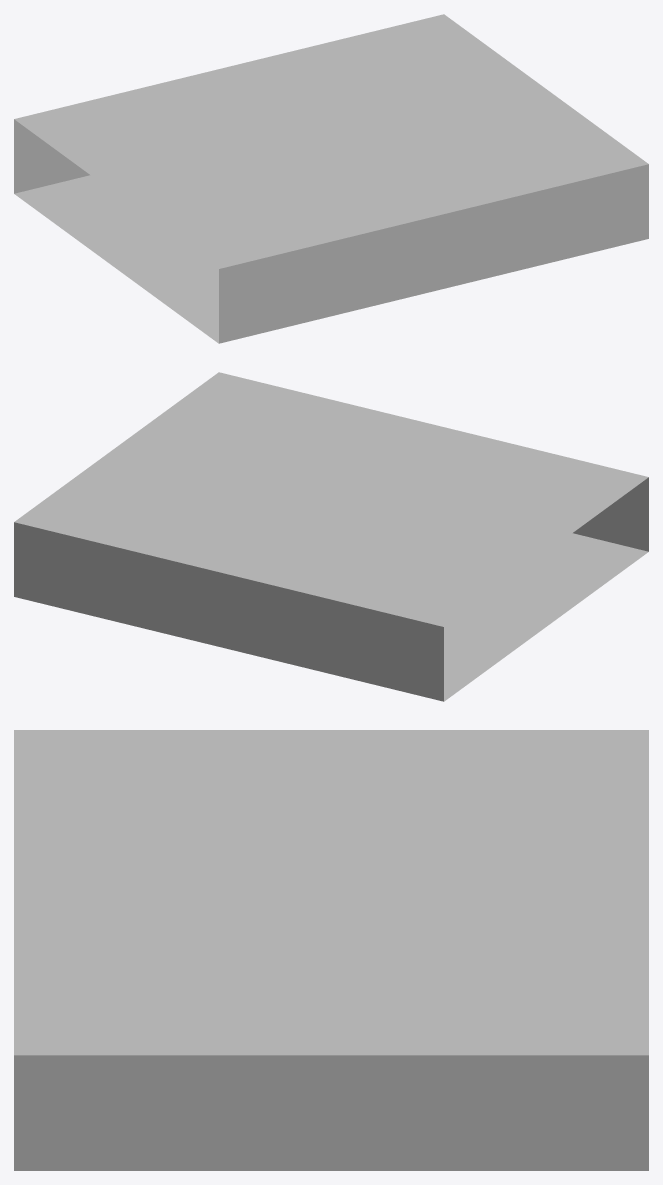
File: Itr_Bartable_Base_Right_06.FBX
3 views of the same model, one above another, from view 1: azimuth 30°, elevation 25°; view 2: azimuth 150°, elevation 25°; view 3: azimuth 270°, elevation 25° (orthographic). The views are drawn at different scales.
Visible parts, largest first — view 1: Itr_Bartable_Base_Right_06; view 2: Itr_Bartable_Base_Right_06; view 3: Itr_Bartable_Base_Right_06.
Boxes of the visible parts, box(x1,y1,x2,y2) form: Itr_Bartable_Base_Right_06: box(14, 14, 648, 343); Itr_Bartable_Base_Right_06: box(14, 372, 648, 701); Itr_Bartable_Base_Right_06: box(14, 730, 648, 1170).
Size of the model in its own units: 23.05 by 3.82 by 19.02.
